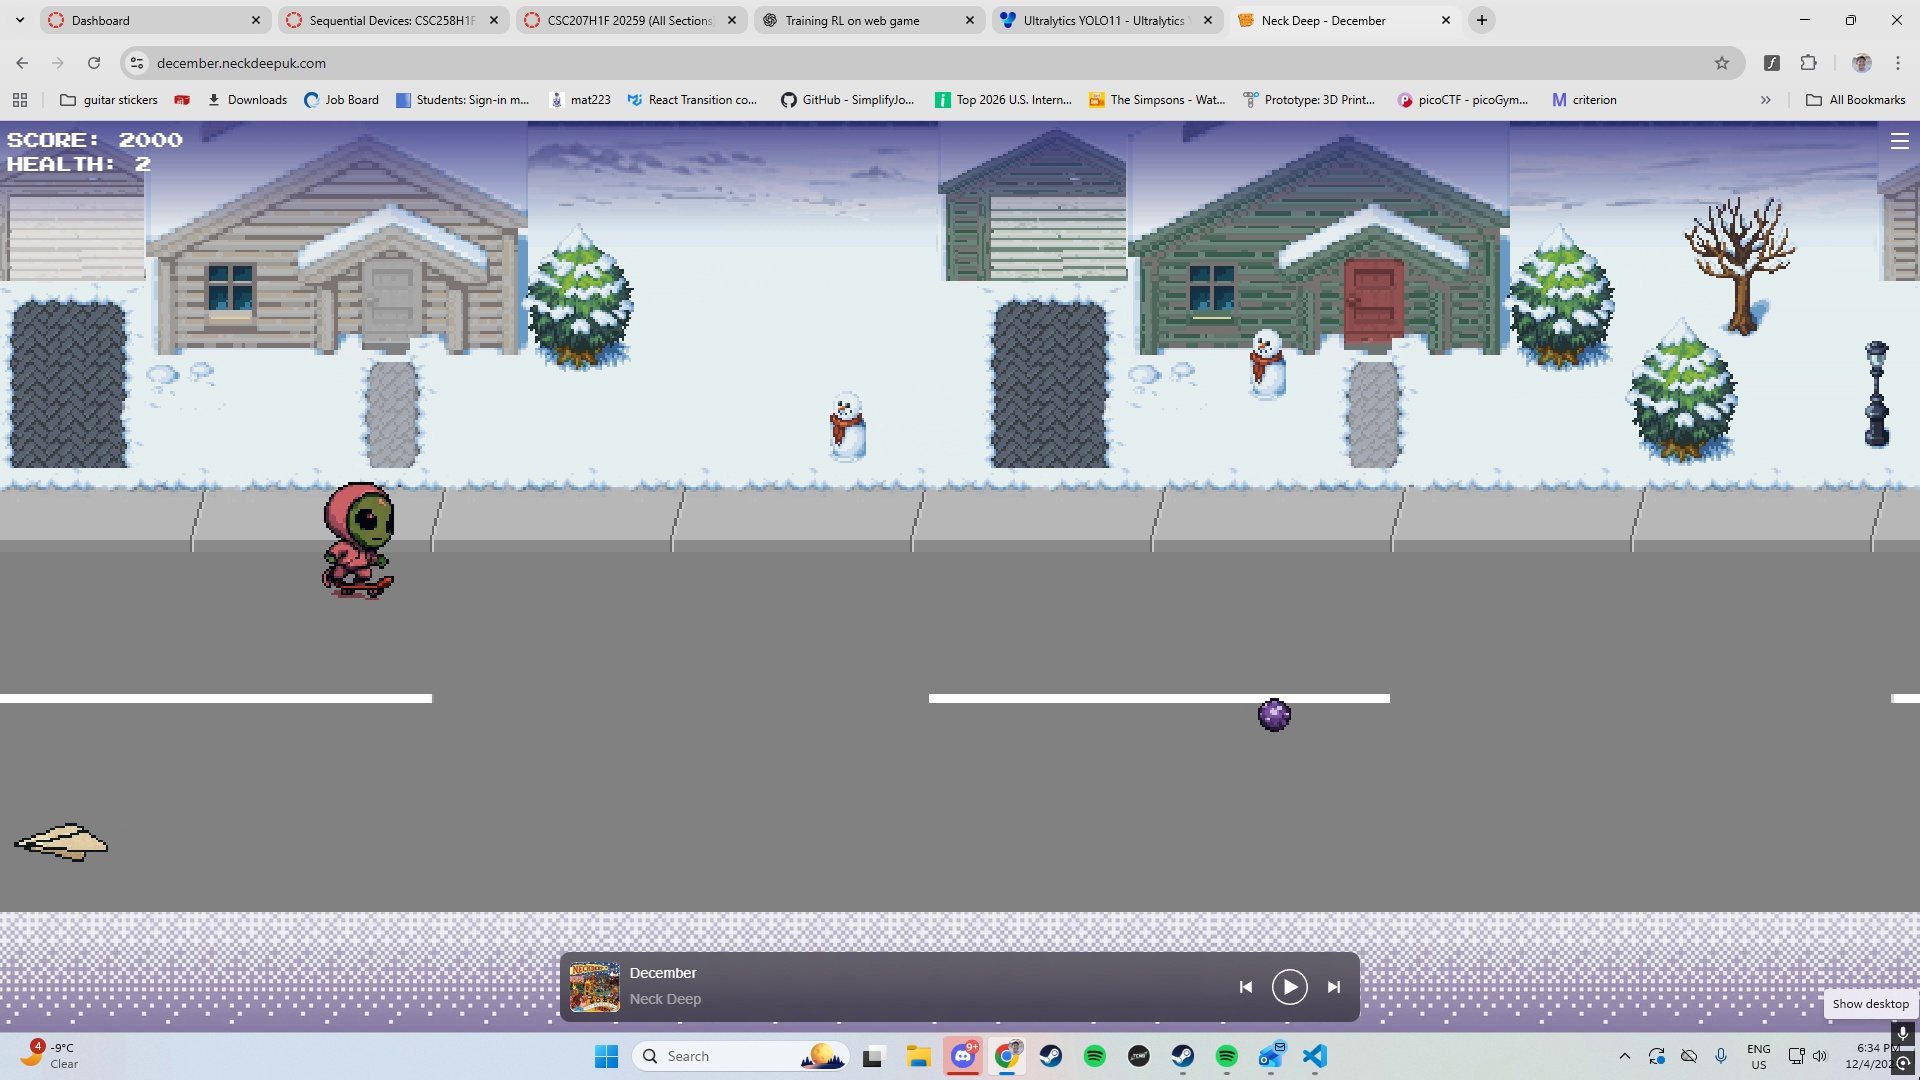Ball: (1251, 687, 1294, 742)
Plane: (6, 817, 119, 869)
Player: (307, 476, 406, 610)
